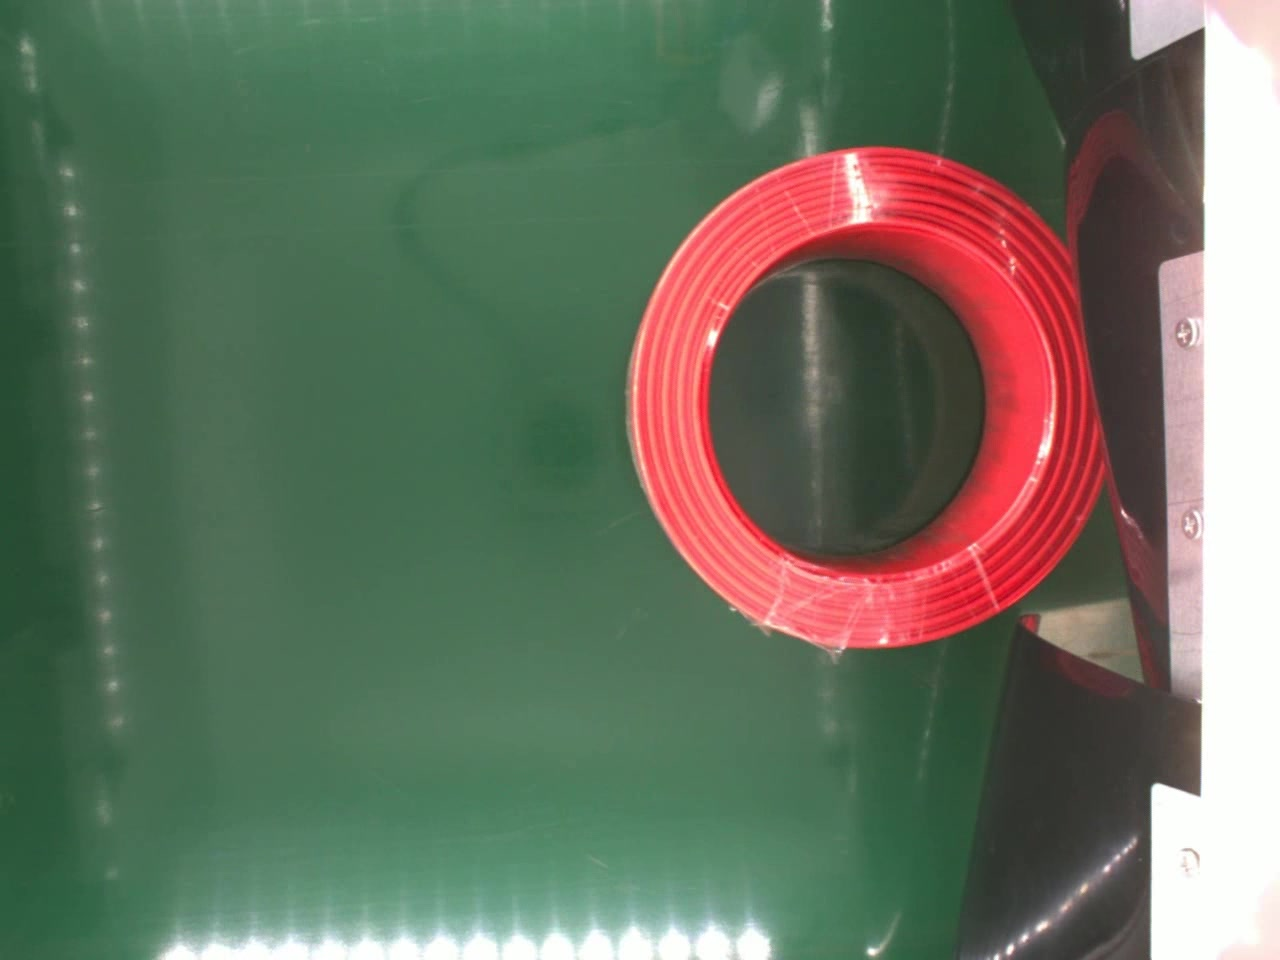red: (622, 146, 1111, 651)
